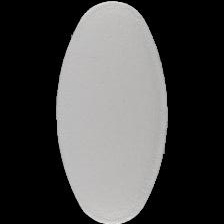70786-0255: (0, 0, 224, 224)
